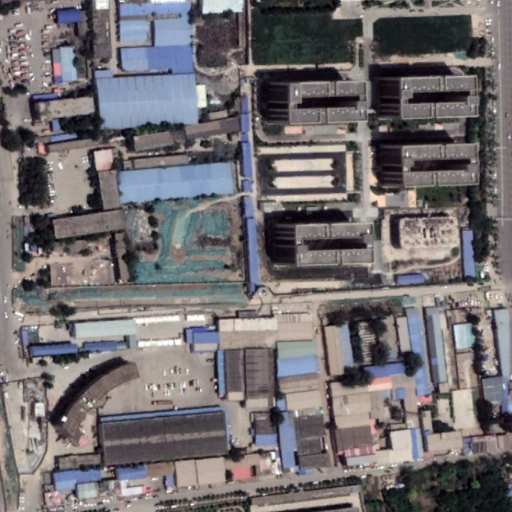cw: (127, 196, 247, 282), (12, 283, 251, 304)
